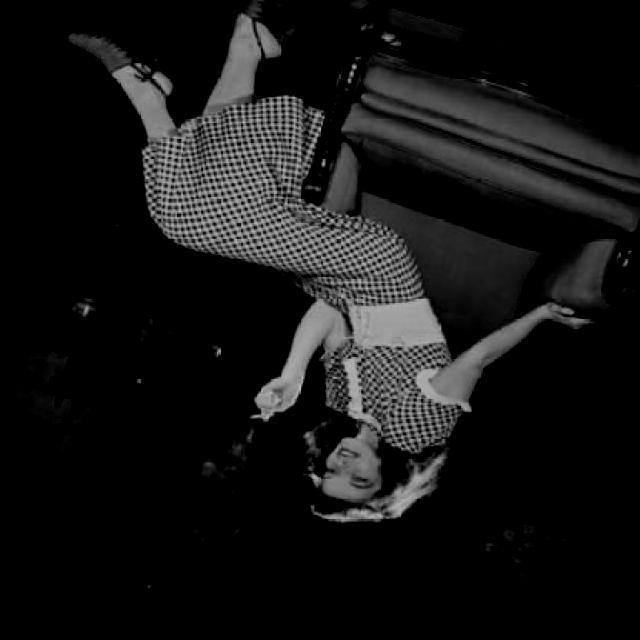cigarette: (242, 370, 311, 426)
